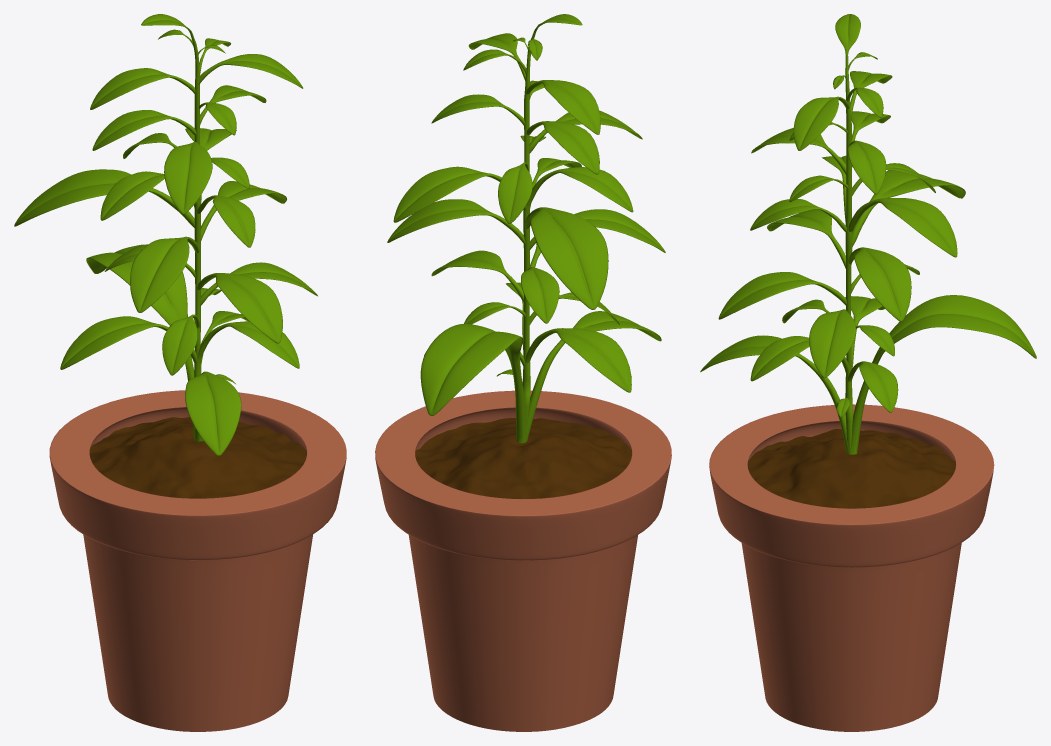
Rendered from plant_grow_phase_3.fbx.
The picture shows the model from 3 angles, left to right: view 1: azimuth 30°, elevation 25°; view 2: azimuth 150°, elevation 25°; view 3: azimuth 270°, elevation 25°; orthographic projection. The views are drawn at different scales.
Visible parts, largest first — view 1: grown_plant.001; view 2: grown_plant.001; view 3: grown_plant.001.
Boxes of the visible parts, box(x1,y1,x2,y2) form: grown_plant.001: box(14, 14, 346, 731); grown_plant.001: box(375, 14, 671, 731); grown_plant.001: box(700, 14, 1036, 731).
Bounding box in the file's own units: 3.28 × 8.35 × 3.88.
